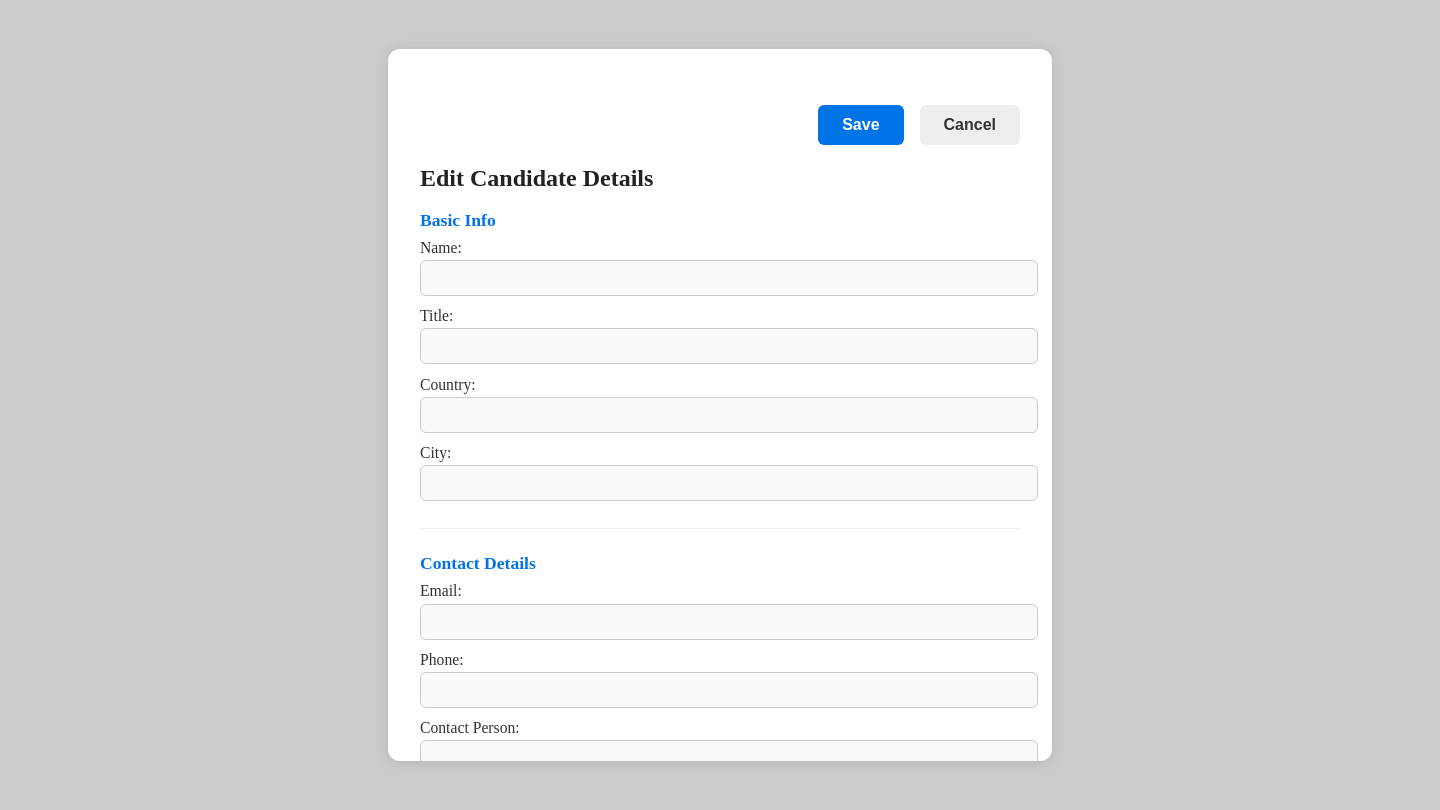
Scenario: EditCandidateForm › shows error for invalid phone
The width and height of the screenshot is (1440, 810).
In the field named "phone": (729, 690) [420,672,1038,708], type "123"
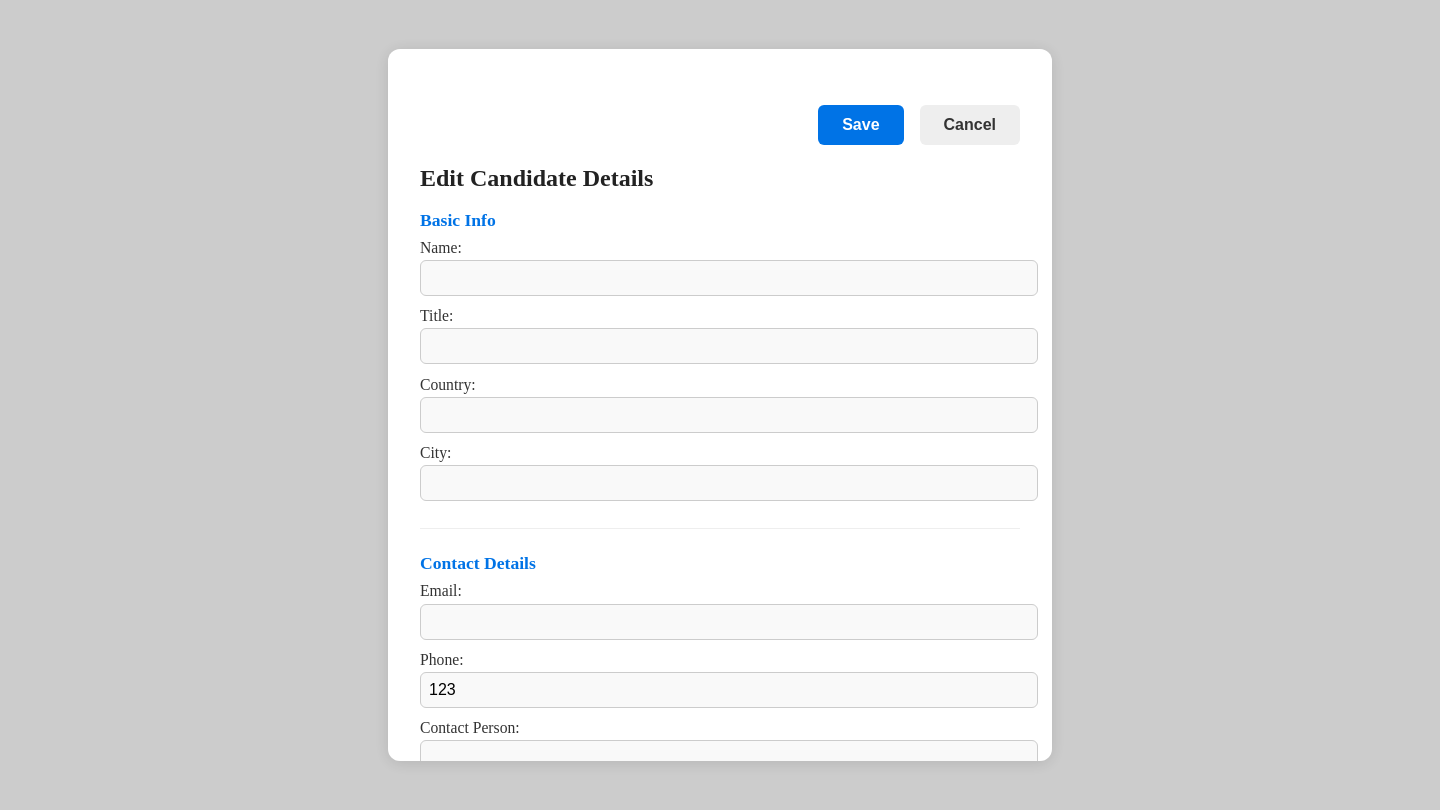
Submit the form, box [388,49,1052,761]
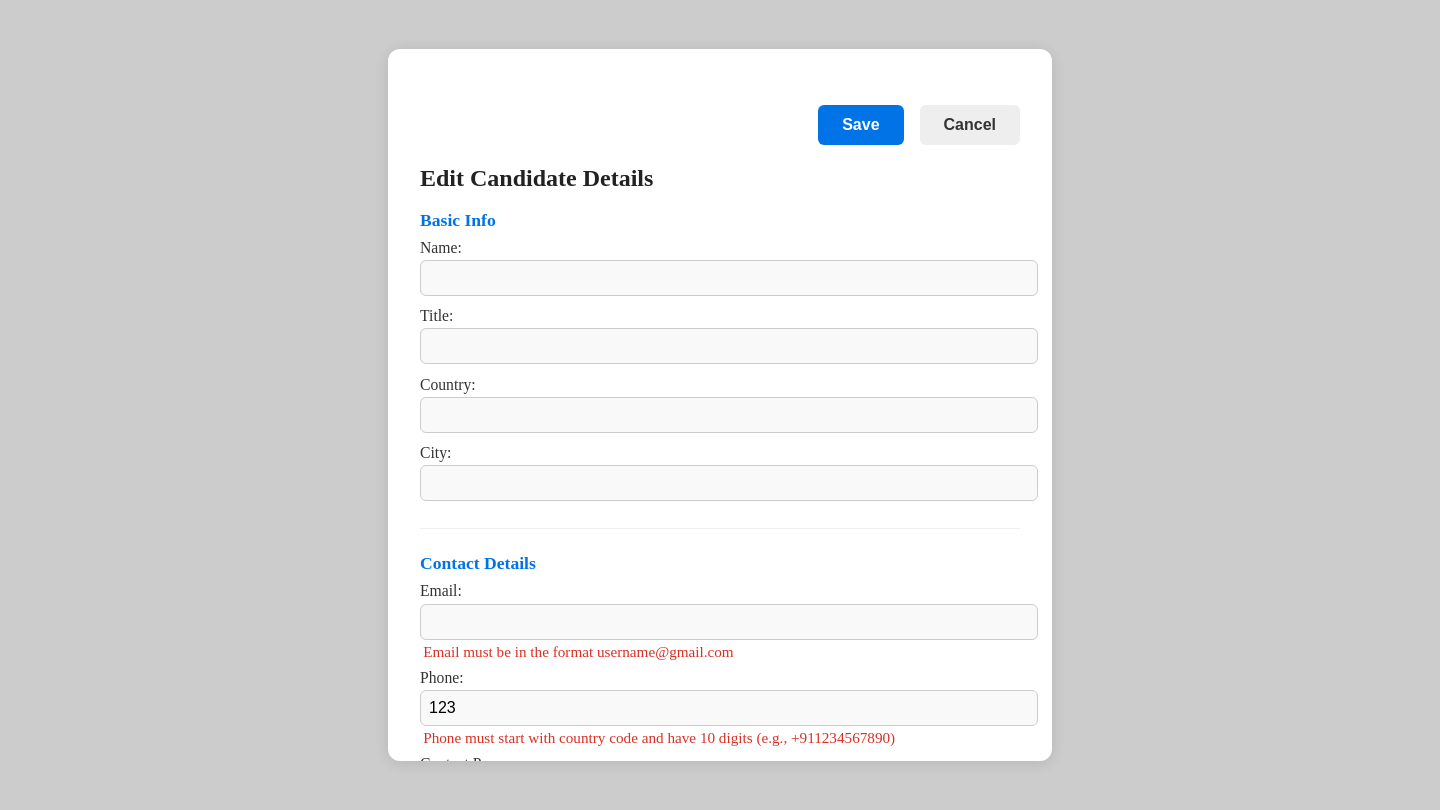
expect the text "Phone must start with country code and have 10 digits (e.g., +911234567890)" is shown: met, box [423,729,895,746]
